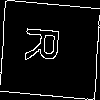R: (24, 25, 68, 65)
